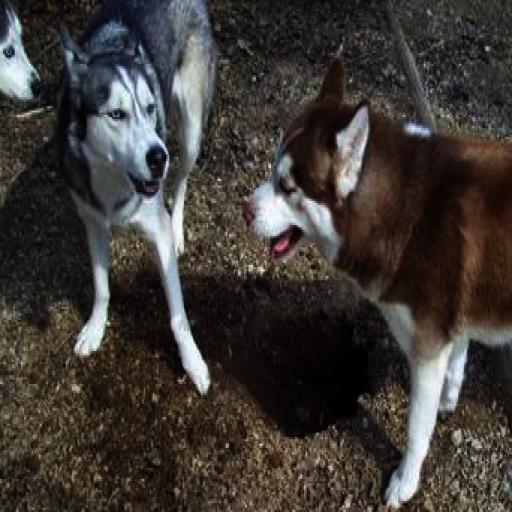dog_face: (250, 86, 367, 263), (59, 38, 166, 198)
